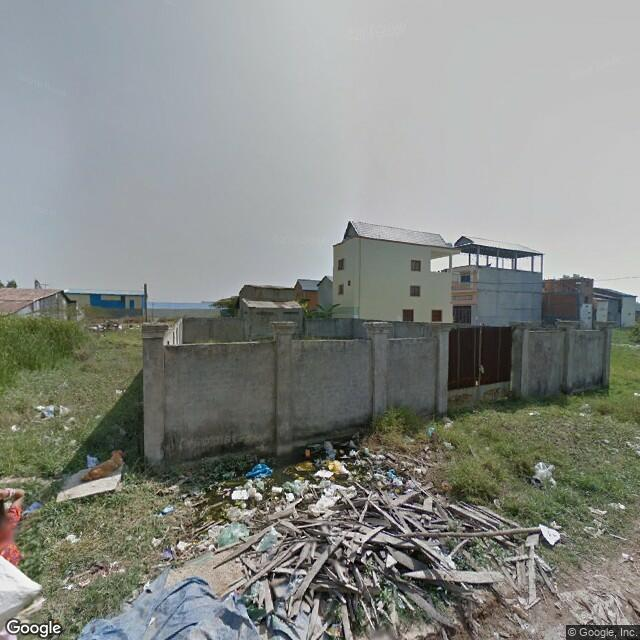litter: (57, 463, 126, 500), (34, 401, 77, 423), (297, 456, 342, 475), (238, 460, 277, 479), (227, 485, 265, 503), (533, 462, 554, 488), (532, 524, 560, 542), (316, 442, 336, 455), (384, 465, 398, 481), (109, 384, 122, 400), (426, 427, 435, 436), (447, 418, 456, 425)
